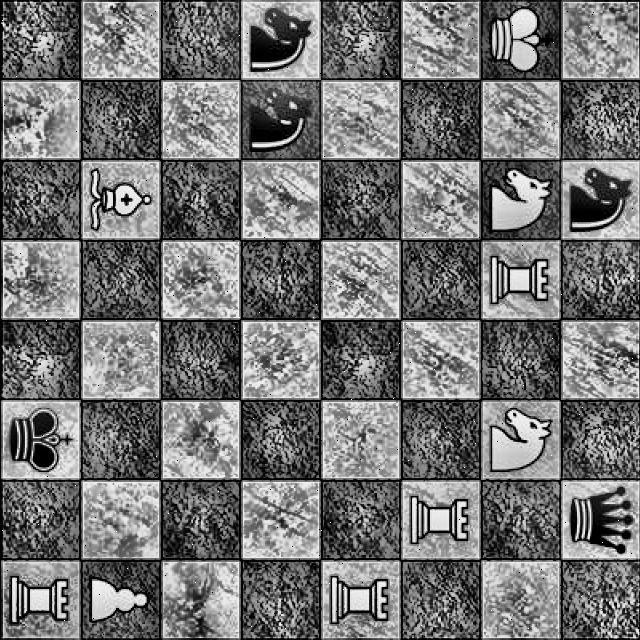Black Knight: (559, 162, 637, 238), (241, 7, 317, 78), (244, 83, 314, 150)
black king: (4, 403, 74, 475)
black queen: (564, 487, 638, 552)
white bishop: (84, 167, 152, 234)
white king: (482, 2, 556, 72)
white pawn: (87, 567, 151, 637)
white rook: (484, 246, 556, 312), (404, 491, 474, 551), (5, 572, 70, 632), (324, 575, 392, 629)
whiteknight: (484, 403, 552, 476), (482, 166, 552, 234)
